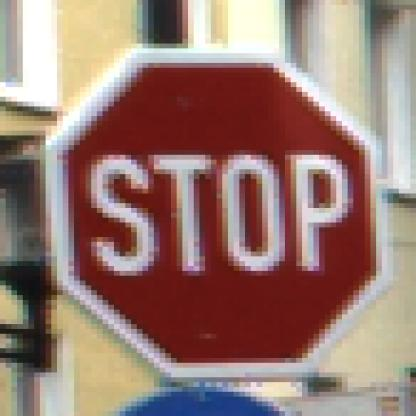stop: (44, 37, 395, 383)
